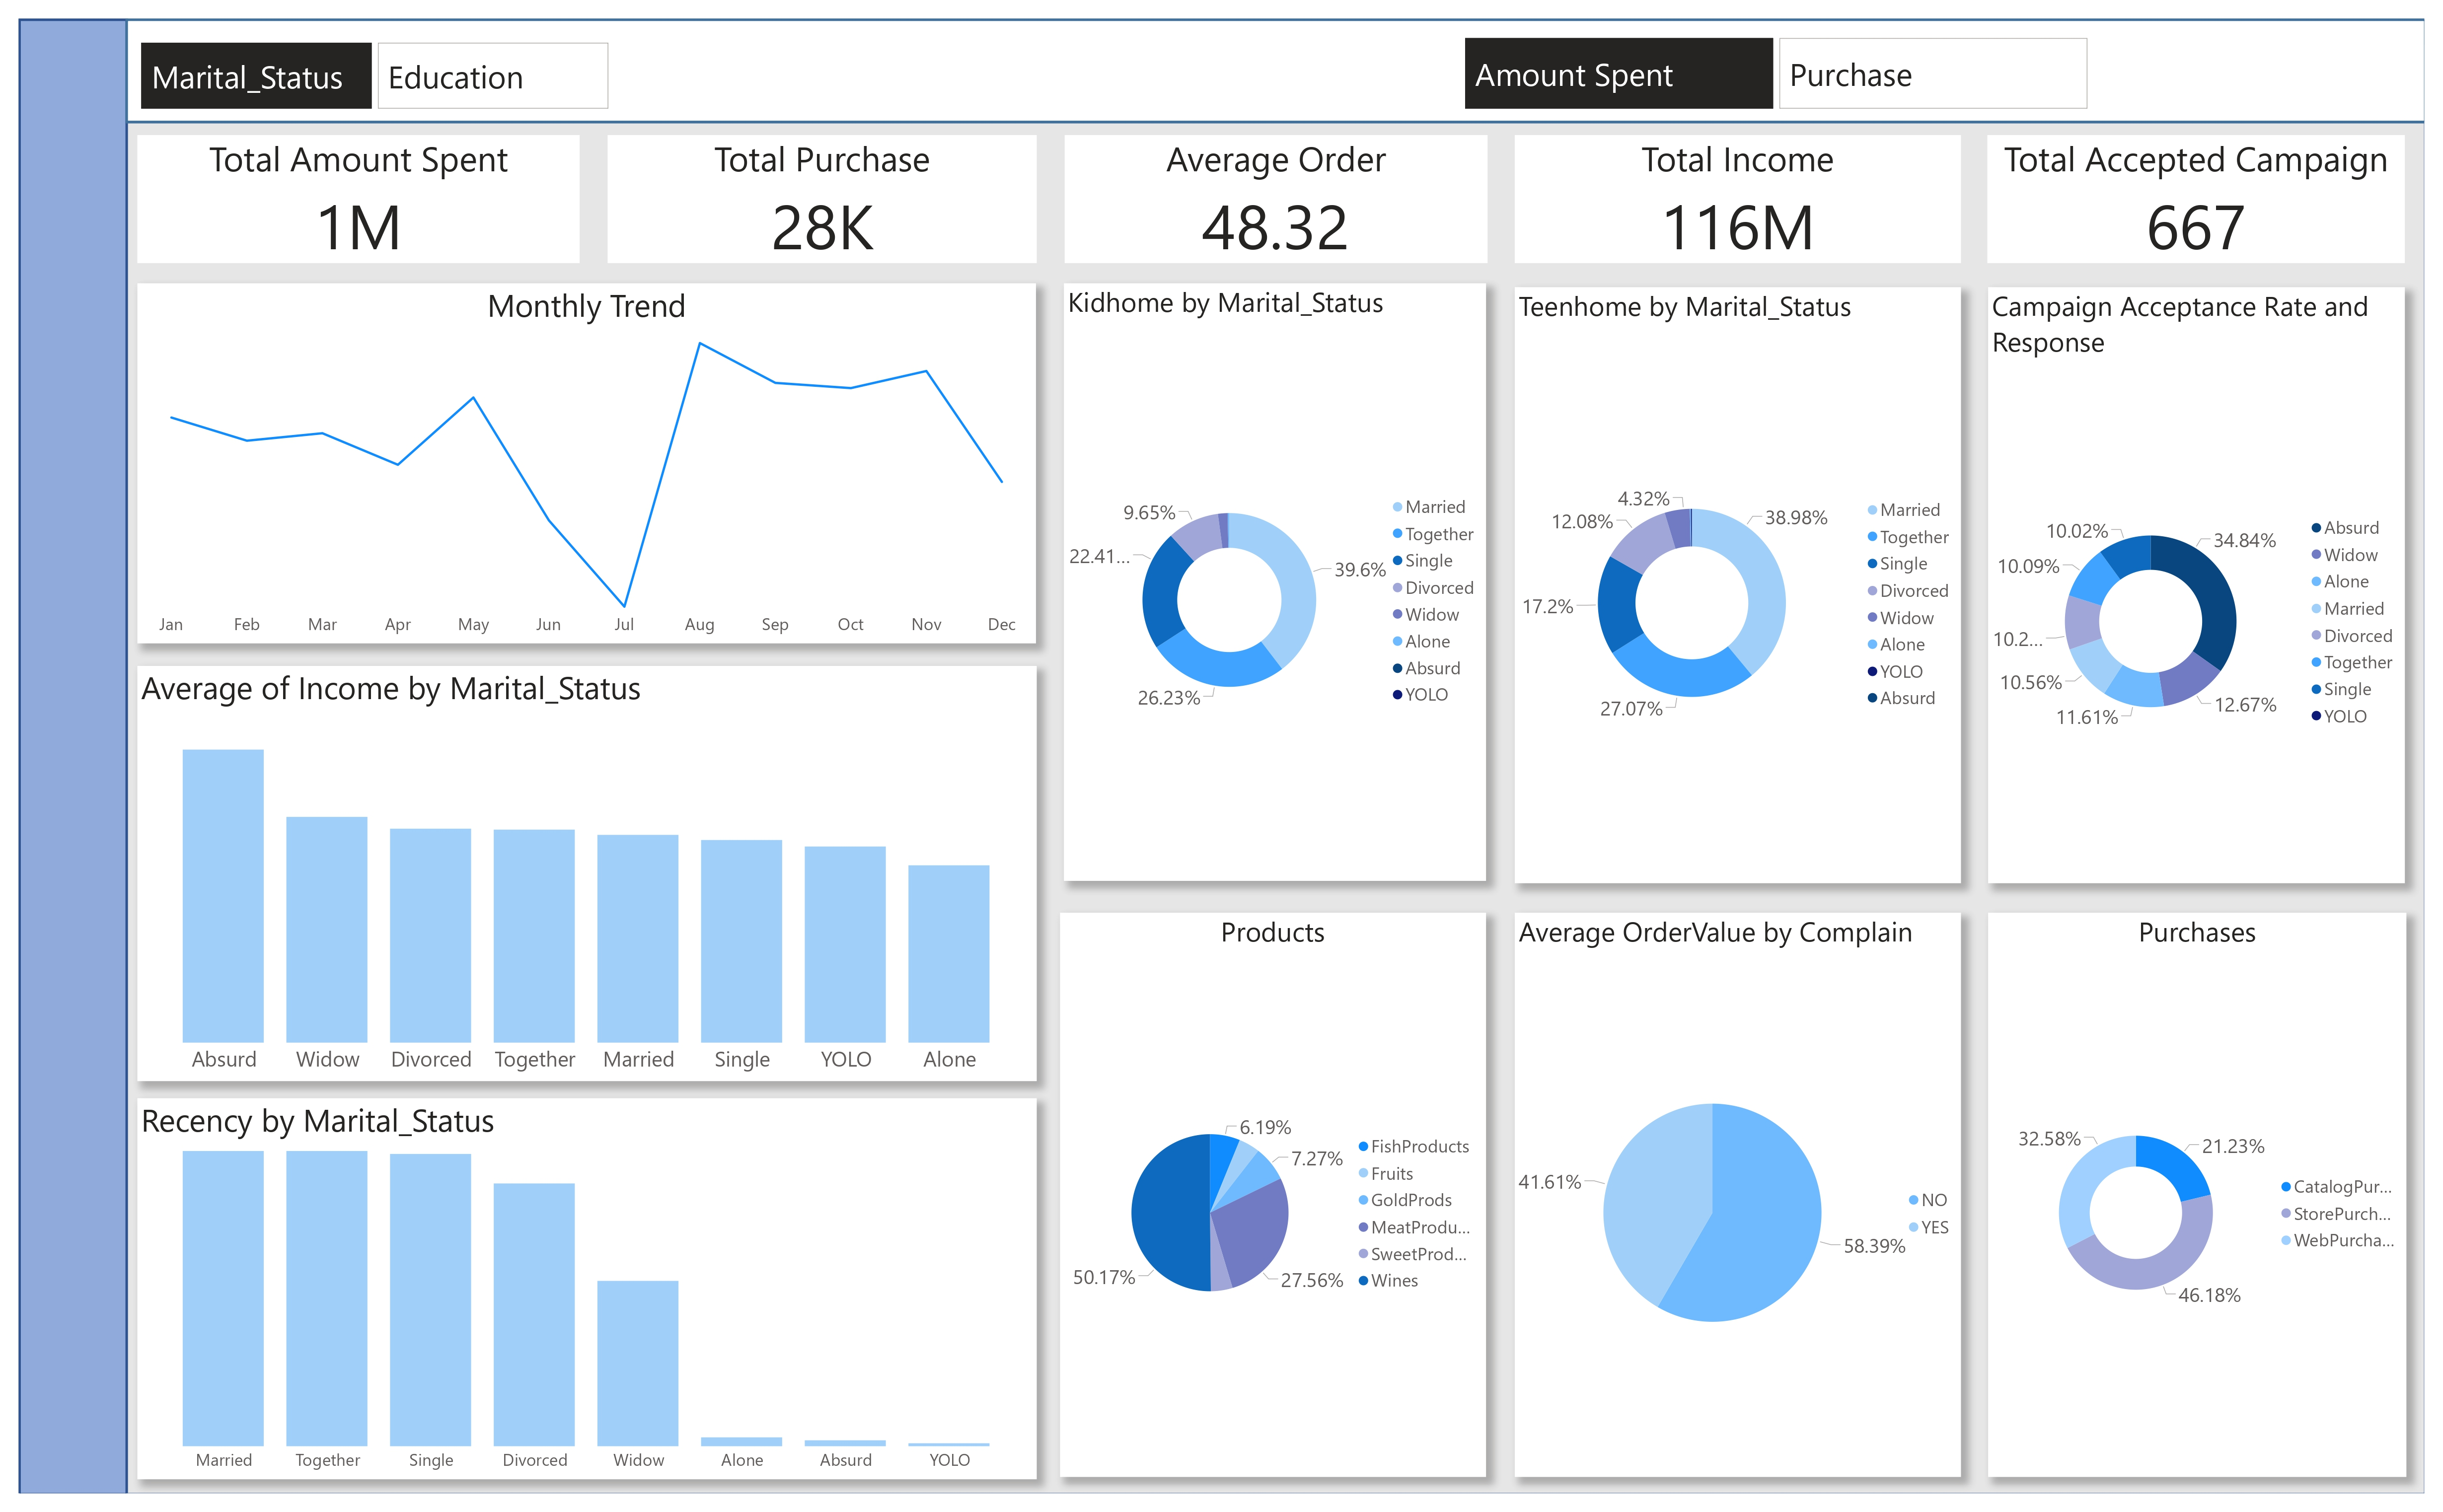

The dashboard page shown, as its layout file describes it:
{"tool":"powerbi","page":{"name":"Dashboard","canvas":[3100,1900],"ordinal":4},"visuals":[{"type":"card","title":"Total Amount Spent","fields":{"Values":["Total Amount Spent.Total Amt Spent"]},"box":[152.8,149.6,569.9,165.6],"z":0},{"type":"card","title":"Total Purchase","fields":{"Values":["Total Purchase.Total Purchase"]},"box":[758.5,149.6,554,165.6],"z":1000},{"type":"card","title":"Average Order ","fields":{"Values":["Order Value.Average OrderValue"]},"box":[1348.3,149.6,544.4,165.6],"z":2000},{"type":"card","title":"Total Income","fields":{"Values":["Customer Income.Total Income"]},"box":[1928.5,150.1,574.5,164.6],"z":3000},{"type":"card","title":"Total Accepted Campaign","fields":{"Values":["Campaign.Total Campaign Accepted"]},"box":[2537.4,149.6,538,165.6],"z":5000},{"type":"donutChart","title":"Kidhome by Marital_Status","fields":{"Category":["Marital status.Marital_Status"],"Y":["Sum(marketing_campaign.Kidhome)"]},"box":[1346.7,340.7,544.4,770.4],"z":6000},{"type":"donutChart","title":"Teenhome by Marital_Status","fields":{"Category":["Marital status.Marital_Status"],"Y":["Sum(marketing_campaign.Teenhome)"]},"box":[1928.5,346.4,574.5,767.9],"z":7000},{"type":"donutChart","title":"Campaign Acceptance Rate and Response","fields":{"Category":["Marital status.Marital_Status"],"Y":["Campaign.Campaign Acceptance Rate"]},"box":[2537.6,346.4,537,767.9],"z":8000},{"type":"advancedSlicerVisual","fields":{"Values":["m&e.m&e"]},"box":[152.8,0,639.9,121],"z":9000},{"type":"clusteredColumnChart","fields":{"Category":["Marital status.Marital_Status"],"Y":["Avg(marketing_campaign.Income)"]},"box":[143.3,340.7,1168.4,770.4],"z":10000},{"type":"clusteredColumnChart","title":"Recency by Marital_Status","fields":{"Category":["Marital status.Marital_Status"],"Y":["Count(marketing_campaign.Recency)"]},"box":[152.8,1152.5,1158.9,729.1],"z":11000},{"type":"pieChart","fields":{"Category":["marketing_campaign.Complain"],"Y":["Order Value.Average OrderValue"]},"box":[1928.5,1151.9,574.5,727.5],"z":12000},{"type":"pieChart","title":"Purchases","fields":{"Y":["Sum(marketing_campaign.NumCatalogPurchases)","Sum(marketing_campaign.NumStorePurchases)","Sum(marketing_campaign.NumWebPurchases)"]},"box":[2537.6,1151.9,539.9,727.5],"z":13000},{"type":"pieChart","title":"Products","fields":{"Y":["Sum(marketing_campaign.MntFishProducts)","Sum(marketing_campaign.MntFruits)","Sum(marketing_campaign.MntGoldProds)","Sum(marketing_campaign.MntMeatProducts)","Sum(marketing_campaign.MntSweetProducts)","Sum(marketing_campaign.MntWines)"]},"box":[1342.4,1151.9,548.5,727.5],"z":14000},{"type":"advancedSlicerVisual","fields":{"Values":["Overview.Overview"]},"box":[2451.4,0,649.5,121],"z":15000}]}

Visuals, with their boxes in screenshot pixels (x1, y1, x2, y2):
"Total Amount Spent" card: bbox=[137, 135, 580, 263]
"Total Purchase" card: bbox=[607, 135, 1037, 263]
"Average Order " card: bbox=[1065, 135, 1487, 263]
"Total Income" card: bbox=[1515, 135, 1961, 263]
"Total Accepted Campaign" card: bbox=[1988, 135, 2405, 263]
"Kidhome by Marital_Status" donutChart: bbox=[1064, 283, 1486, 881]
"Teenhome by Marital_Status" donutChart: bbox=[1515, 288, 1961, 883]
"Campaign Acceptance Rate and Response" donutChart: bbox=[1988, 288, 2405, 883]
advancedSlicerVisual - m&e.m&e: bbox=[137, 19, 634, 113]
clusteredColumnChart - Marital status.Marital_Status x Avg(marketing_campaign.Income): bbox=[130, 283, 1036, 881]
"Recency by Marital_Status" clusteredColumnChart: bbox=[137, 913, 1036, 1479]
pieChart - marketing_campaign.Complain x Order Value.Average OrderValue: bbox=[1515, 913, 1961, 1477]
"Purchases" pieChart: bbox=[1988, 913, 2407, 1477]
"Products" pieChart: bbox=[1060, 913, 1486, 1477]
advancedSlicerVisual - Overview.Overview: bbox=[1921, 19, 2424, 113]
